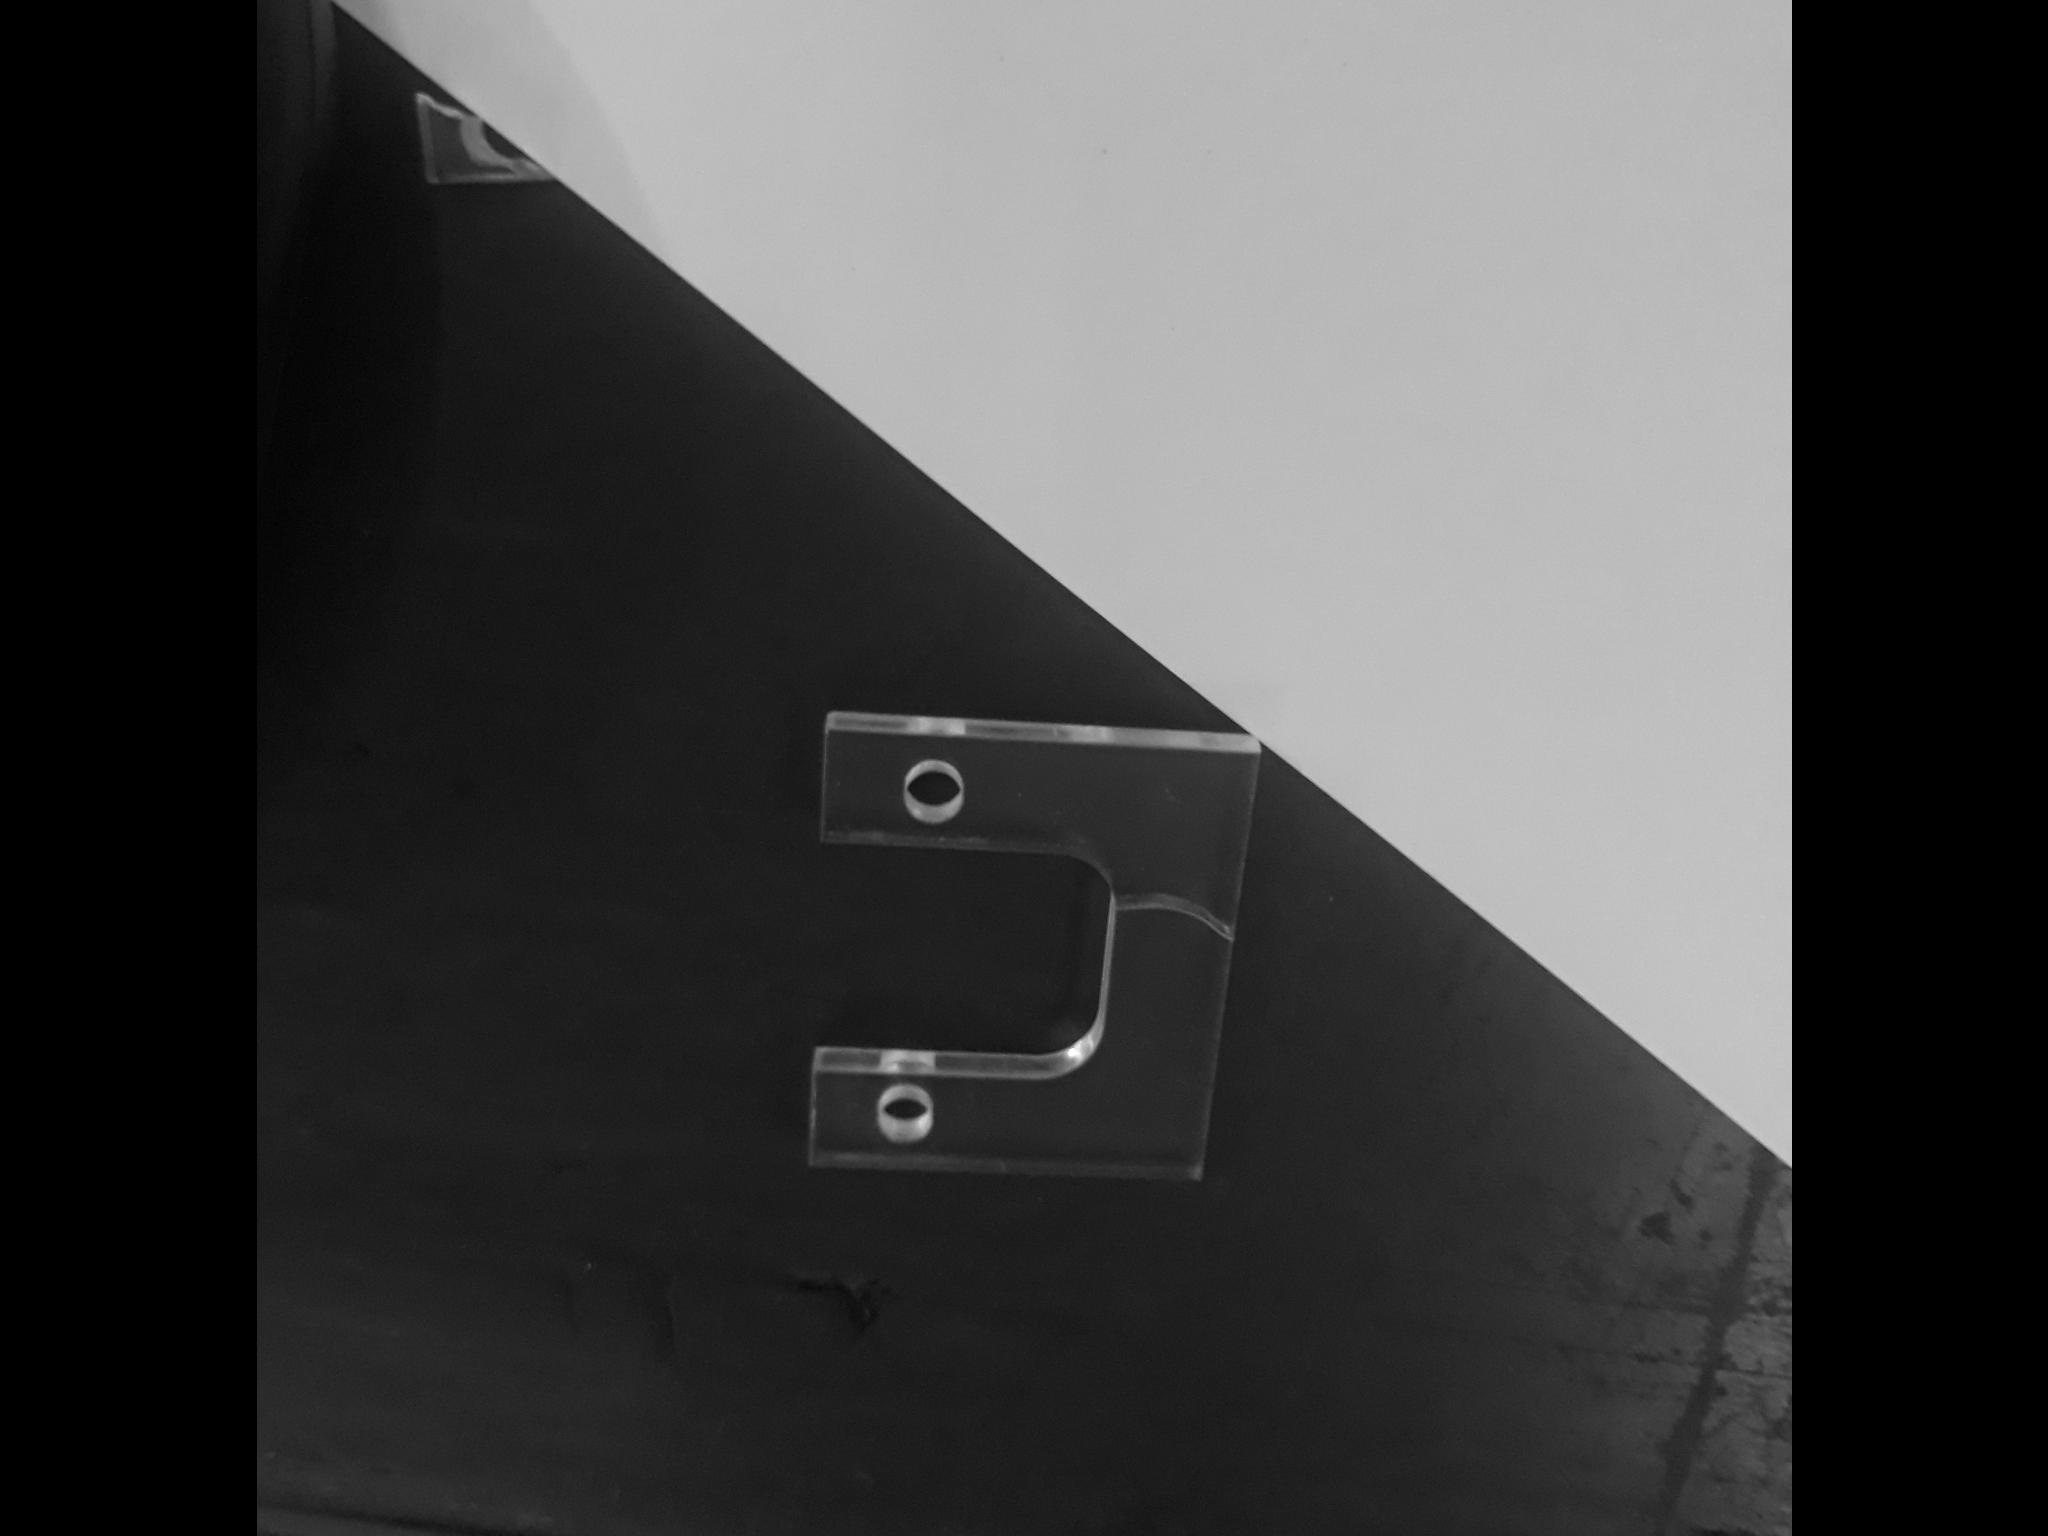Shape_45: (739, 805, 1179, 1228), (826, 939, 1074, 1099)
